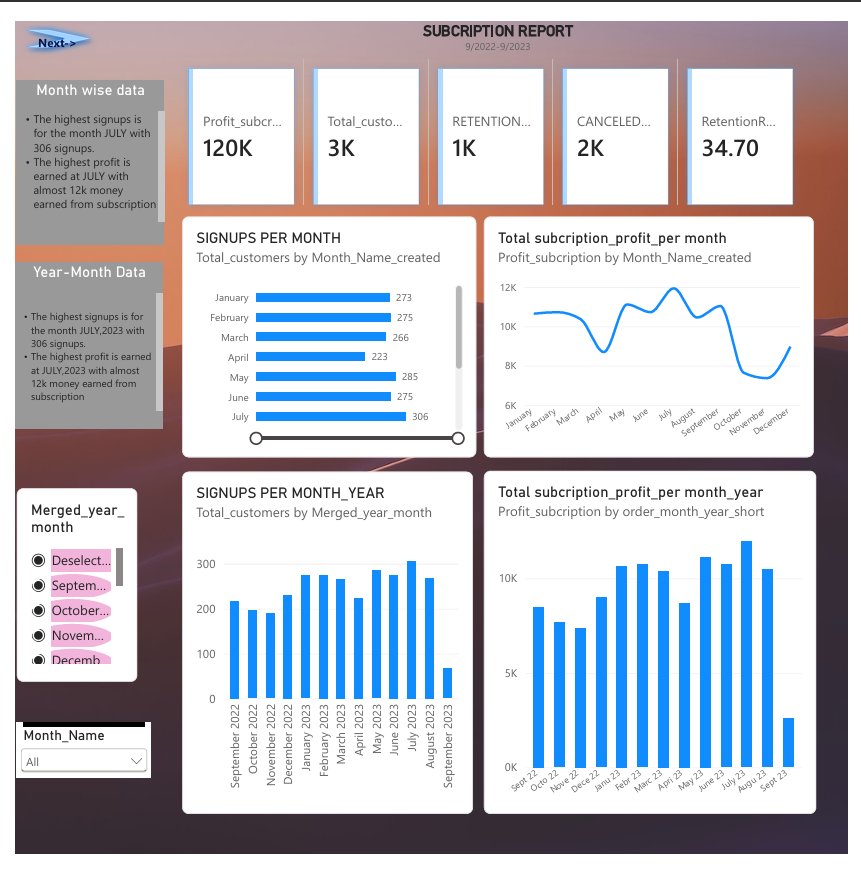

The dashboard page shown, as its layout file describes it:
{"tool":"powerbi","page":{"name":"Home","canvas":[1000,1000],"ordinal":0},"visuals":[{"type":"barChart","title":"SIGNUPS PER MONTH","fields":{"Category":["Subscription Cohort Analysis Data.Month_Name_created"],"Y":["Subscription Cohort Analysis Data.Total_customers"]},"box":[200,234.4,354.4,290],"z":0},{"type":"columnChart","title":"SIGNUPS PER MONTH_YEAR","fields":{"Category":["Subscription Cohort Analysis Data.Merged_year_month"],"Y":["Subscription Cohort Analysis Data.Total_customers"]},"box":[200,541.4,350,411.4],"z":1000},{"type":"lineChart","title":"Total subcription_profit_per month","fields":{"Category":["Subscription Cohort Analysis Data.Month_Name_created"],"Y":["Subscription Cohort Analysis Data.Total subcription_profit"]},"box":[563.3,234.4,396.7,290],"z":2000},{"type":"columnChart","title":"Total subcription_profit_per month_year","fields":{"Category":["Subscription Cohort Analysis Data.order_month_year_short"],"Y":["Subscription Cohort Analysis Data.Total subcription_profit"]},"box":[562.9,540,400,412.9],"z":3000},{"type":"cardVisual","title":"SUBCRIPTION REPORT","fields":{"Data":["Subscription Cohort Analysis Data.Total subcription_profit","Subscription Cohort Analysis Data.Total_customers","Subscription Cohort Analysis Data.CANCELLED_COUNT","Subscription Cohort Analysis Data.CANCELED_COUNT","Subscription Cohort Analysis Data.Retention_rate"]},"box":[196.7,0,766.7,233.3],"z":4000},{"type":"textbox","title":"Month wise data","box":[1.4,71.4,177.1,197.1],"z":4001},{"type":"textbox","title":"Year-Month Data","box":[0,290,177.1,200],"z":4002},{"type":"listSlicer","fields":{"Values":["Subscription Cohort Analysis Data.Merged_year_month"]},"box":[1.4,561.4,144.3,232.9],"z":4003},{"type":"slicer","fields":{"Values":["Subscription Cohort Analysis Data.Month_Name_created"]},"box":[1.2,842.5,161.2,67.5],"z":4004},{"type":"actionButton","title":"<-Back","box":[0,0,100,40],"z":4005}]}

Visuals, with their boxes in screenshot pixels (x1, y1, x2, y2), scaled from the page's 1000x1000 canvas onto the 861x871 screenshot:
"SIGNUPS PER MONTH" barChart: detection(172, 204, 477, 457)
"SIGNUPS PER MONTH_YEAR" columnChart: detection(172, 472, 474, 830)
"Total subcription_profit_per month" lineChart: detection(485, 204, 827, 457)
"Total subcription_profit_per month_year" columnChart: detection(485, 470, 829, 830)
"SUBCRIPTION REPORT" cardVisual: detection(169, 0, 829, 203)
"Month wise data" textbox: detection(1, 62, 154, 234)
"Year-Month Data" textbox: detection(0, 253, 152, 427)
listSlicer - Subscription Cohort Analysis Data.Merged_year_month: detection(1, 489, 125, 692)
slicer - Subscription Cohort Analysis Data.Month_Name_created: detection(1, 734, 140, 793)
"<-Back" actionButton: detection(0, 0, 86, 35)
